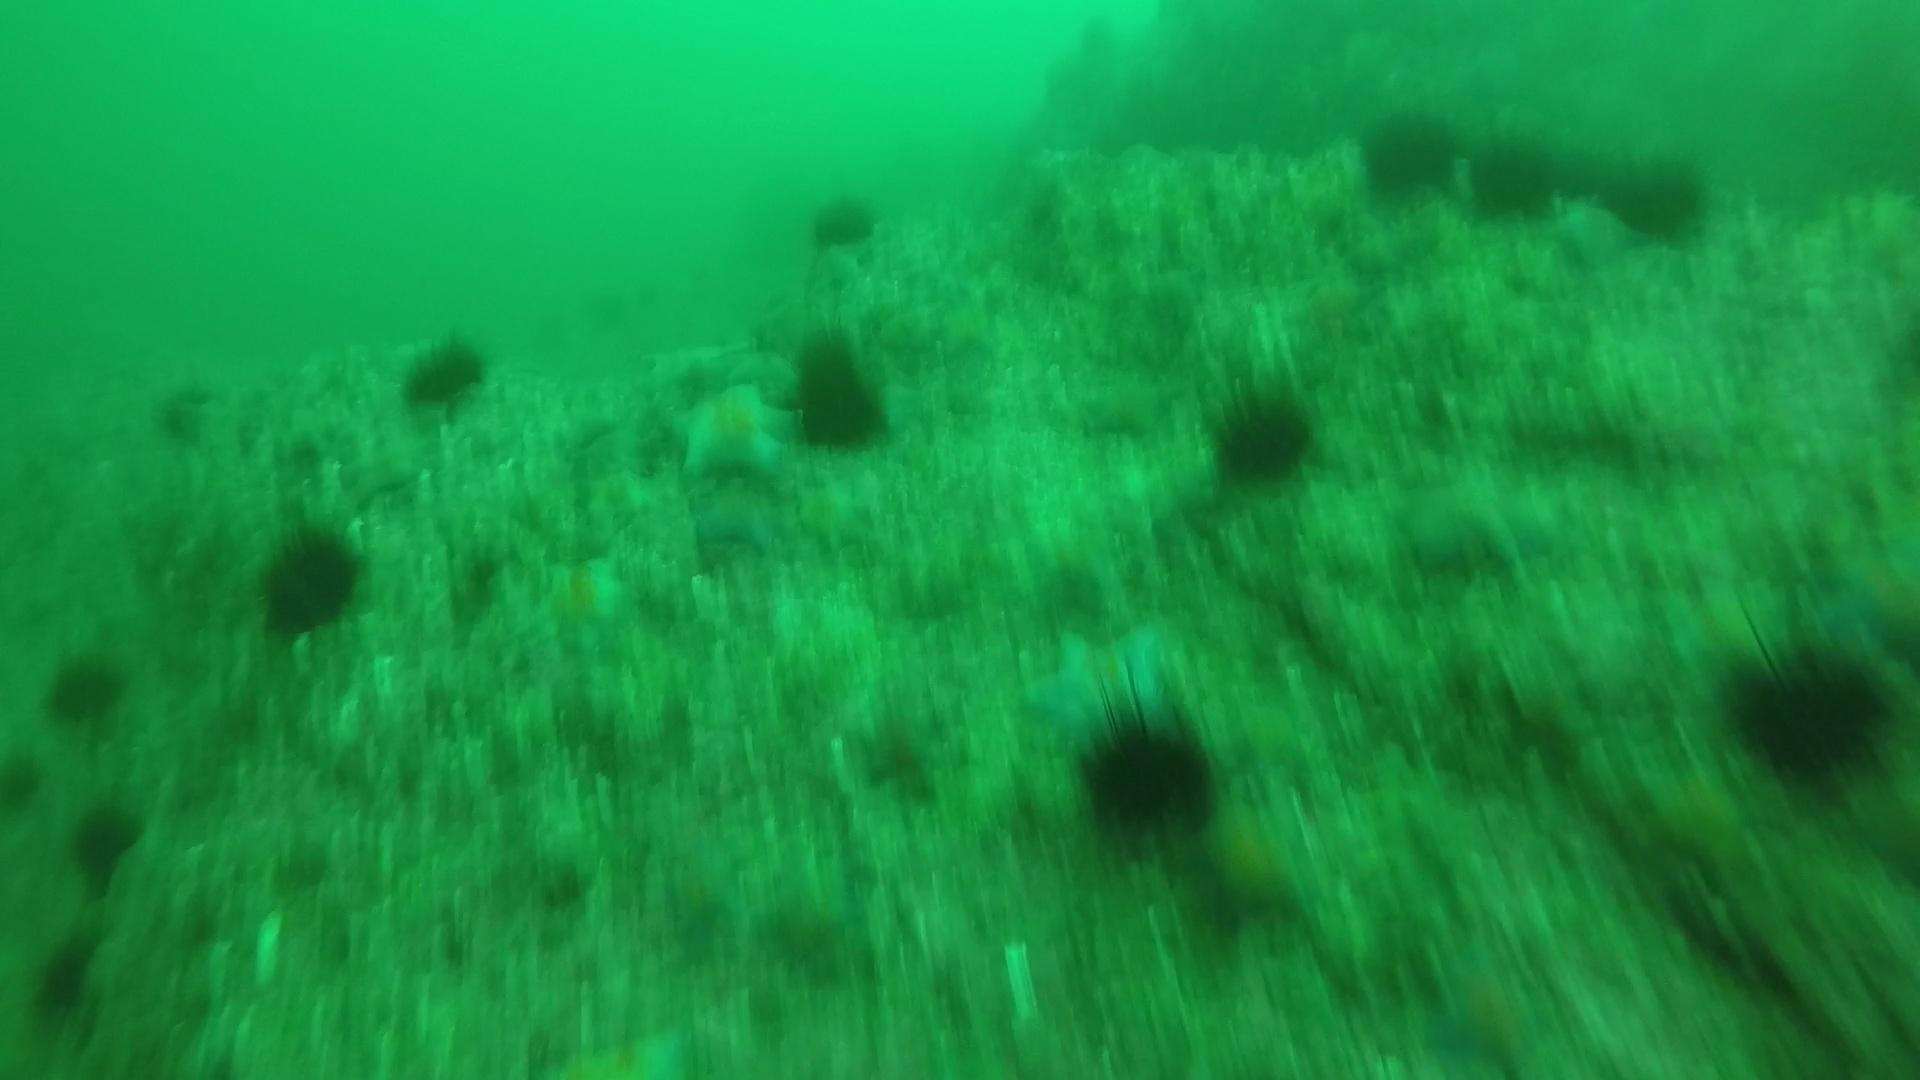echinus: (1720, 633, 1899, 789), (1071, 694, 1221, 840), (251, 520, 372, 642), (781, 334, 894, 458), (1204, 380, 1324, 491), (1356, 105, 1462, 203), (1604, 153, 1713, 247), (1462, 132, 1564, 225), (396, 331, 495, 415), (62, 796, 148, 891), (40, 647, 132, 728), (25, 931, 105, 1023), (804, 189, 882, 255), (150, 382, 214, 446), (0, 745, 47, 816)
starfish: (1393, 450, 1573, 578), (1414, 938, 1556, 1077), (1017, 618, 1175, 742), (1188, 785, 1321, 926), (1633, 746, 1762, 876), (1650, 567, 1789, 680), (1805, 525, 1919, 665), (753, 853, 872, 984), (670, 378, 800, 484), (524, 545, 640, 655), (651, 833, 752, 943), (683, 476, 791, 558), (1542, 191, 1643, 273), (787, 472, 877, 555)
